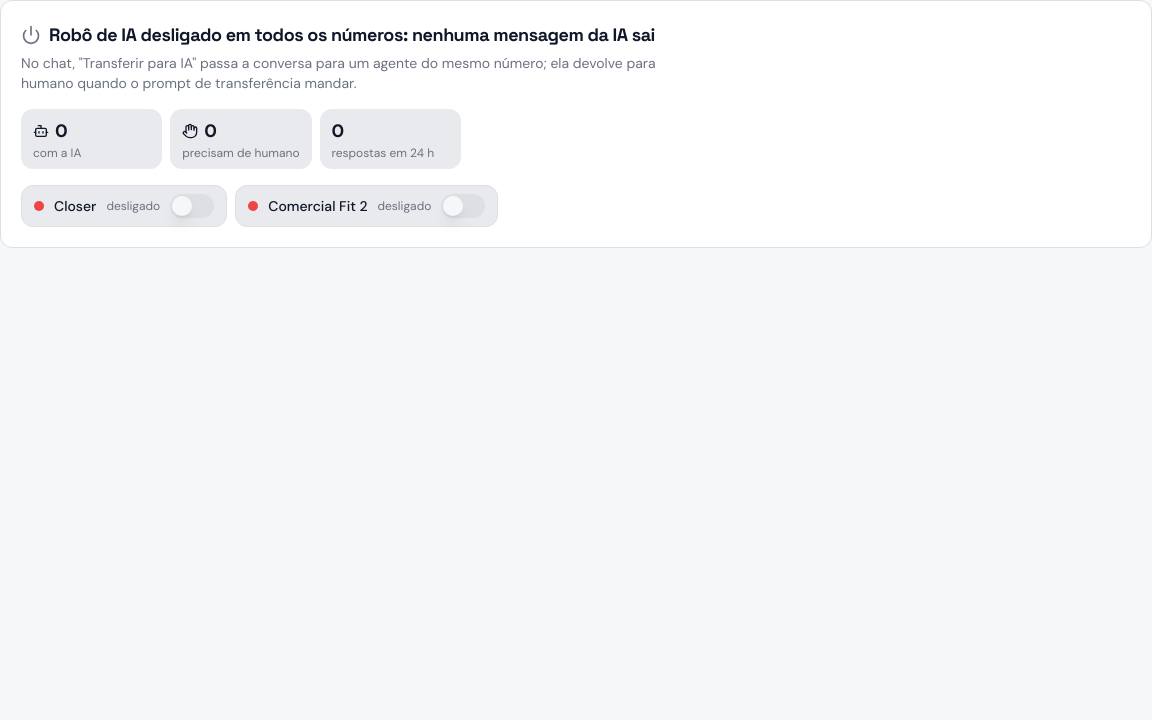
Test case: EstadoRoboIA: ligar o robô por número › não depende de window.confirm: abre o diálogo da página e só grava ao confirmar
expect the heading "desligado em todos os números" is shown: met, box [49, 23, 655, 46]
Click the switch named "Robô de IA ligado no Comercial Fit 2" at (463, 206), box [441, 194, 485, 218]
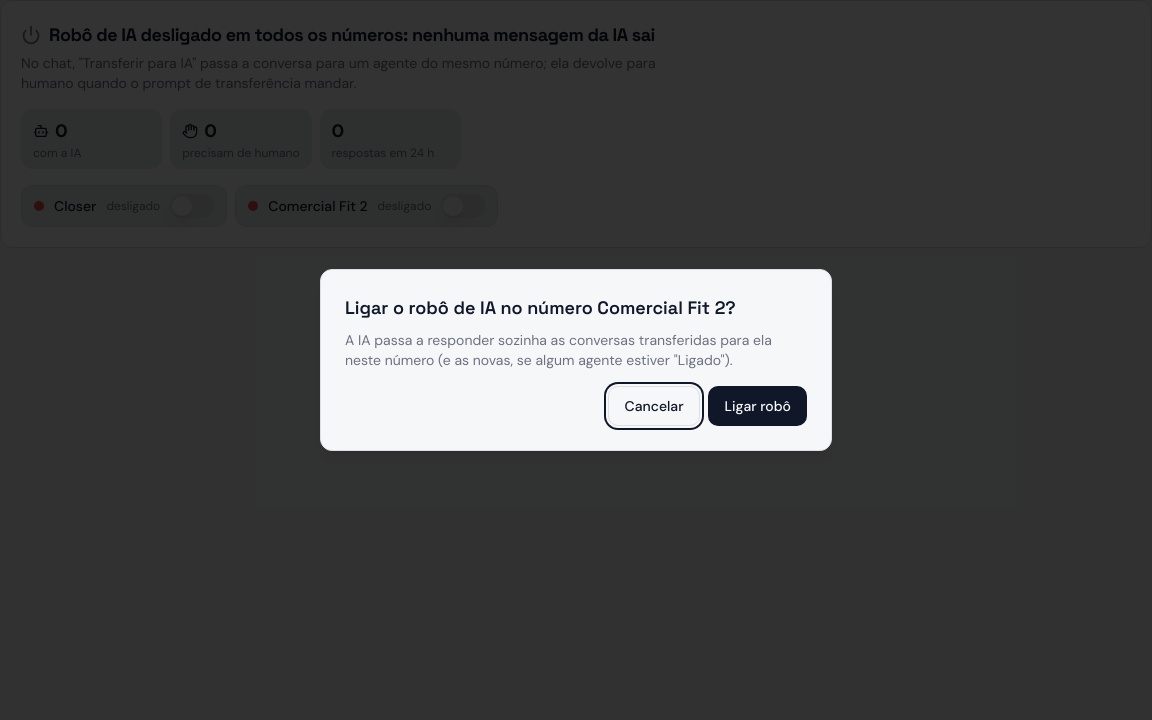
expect the dialog with test id "confirmar-ligar-robo" is shown: met, box [320, 269, 832, 451]
Click the button "Ligar robô" at (758, 406), box [708, 386, 807, 426]
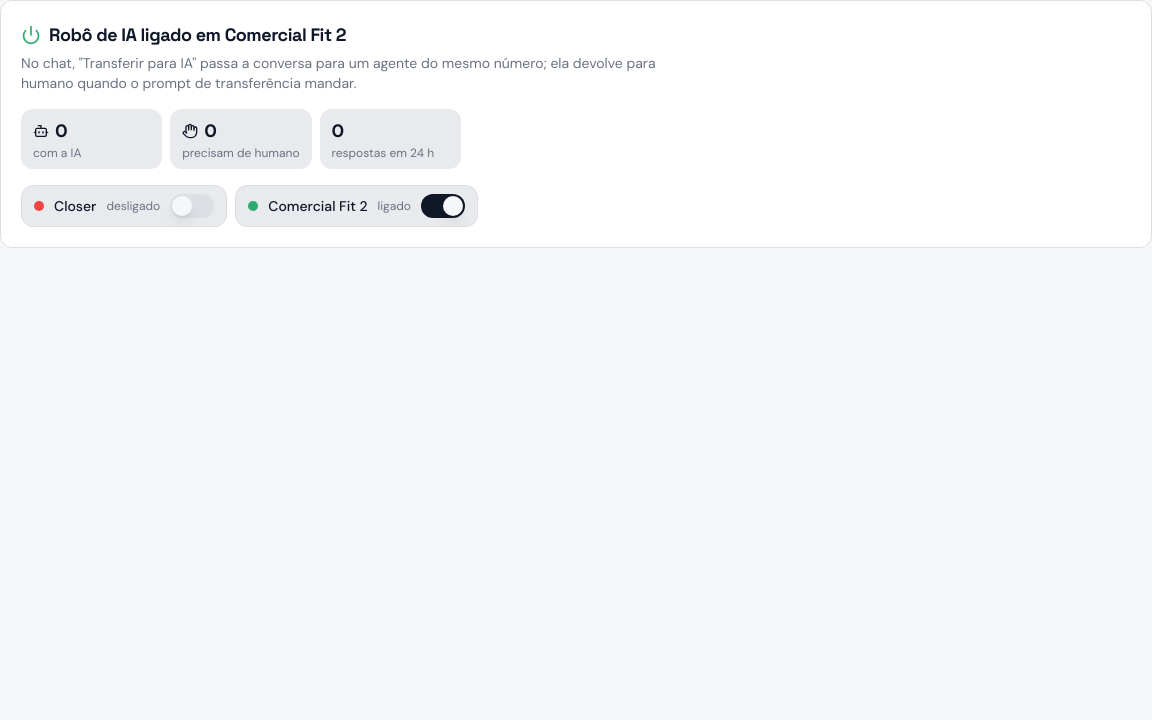
expect the heading "Robô de IA ligado em Comercial Fit 2" is shown: met, box [21, 23, 346, 46]
